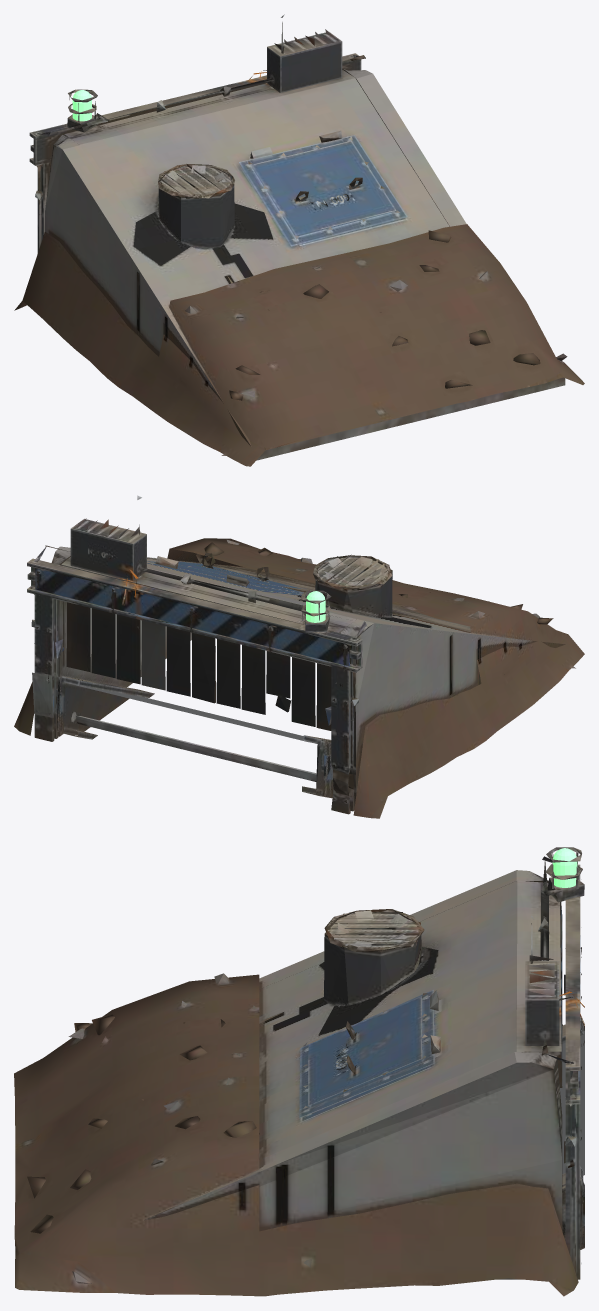
File: esteira_tunel_saida_expressa.glb
The picture shows the model from 3 angles, top to bottom: view 1: azimuth 30°, elevation 25°; view 2: azimuth 150°, elevation 25°; view 3: azimuth 270°, elevation 25°; orthographic projection. The views are drawn at different scales.
Parts seen in each view (by area): view 1: esteira_tunel_saida_expressa_corpo; view 2: esteira_tunel_saida_expressa_corpo; view 3: esteira_tunel_saida_expressa_corpo.
Boxes of the visible parts, left/top/right/bottom form: esteira_tunel_saida_expressa_corpo: left=14, top=14, right=584, bottom=466; esteira_tunel_saida_expressa_corpo: left=14, top=495, right=584, bottom=818; esteira_tunel_saida_expressa_corpo: left=14, top=847, right=584, bottom=1296.
Size of the model in its own units: 0.9416 by 0.6061 by 1.
4 materials, 1 textured.
